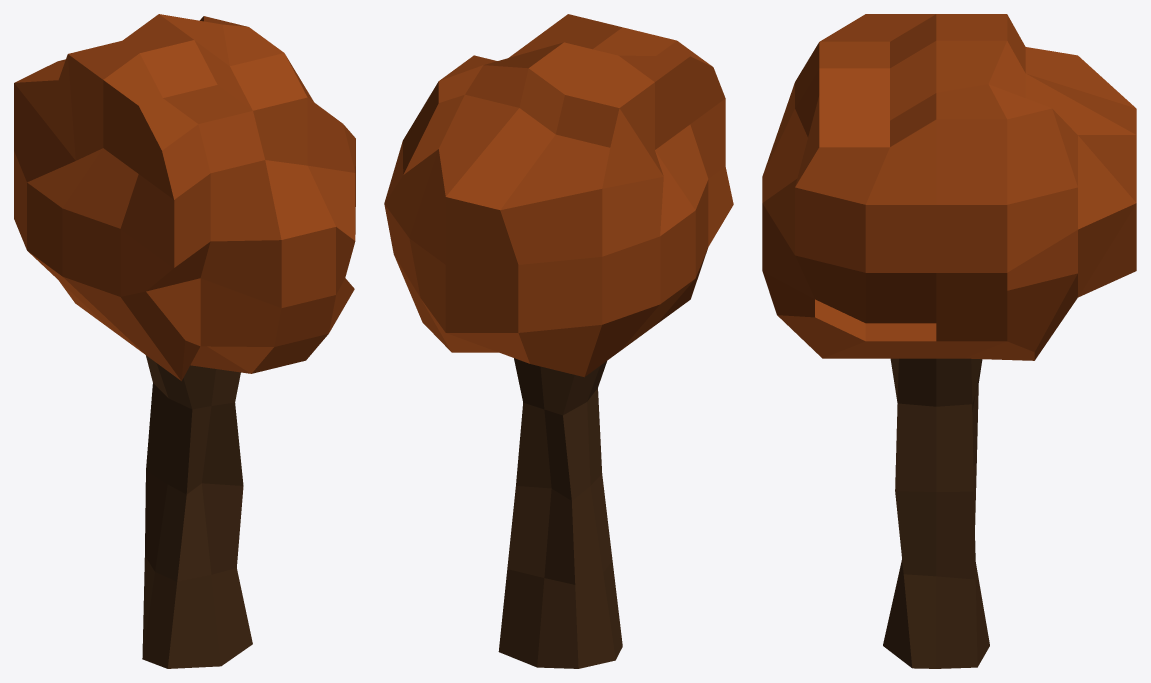
Rendered from drzewko1 inny kolorek.fbx.
The picture shows the model from 3 angles, left to right: view 1: azimuth 30°, elevation 25°; view 2: azimuth 150°, elevation 25°; view 3: azimuth 270°, elevation 25°; orthographic projection.
Visible parts, largest first — view 1: Cube.001, Cube; view 2: Cube.001, Cube; view 3: Cube.001, Cube.
Part boxes in pixels (<box>): Cube.001: <box>14,14,355,380</box>; Cube: <box>142,355,252,668</box>; Cube.001: <box>384,14,733,377</box>; Cube: <box>498,358,622,668</box>; Cube.001: <box>762,14,1136,360</box>; Cube: <box>883,358,989,668</box>.
Bounding box in the file's own units: 879 × 1906 × 1068.
